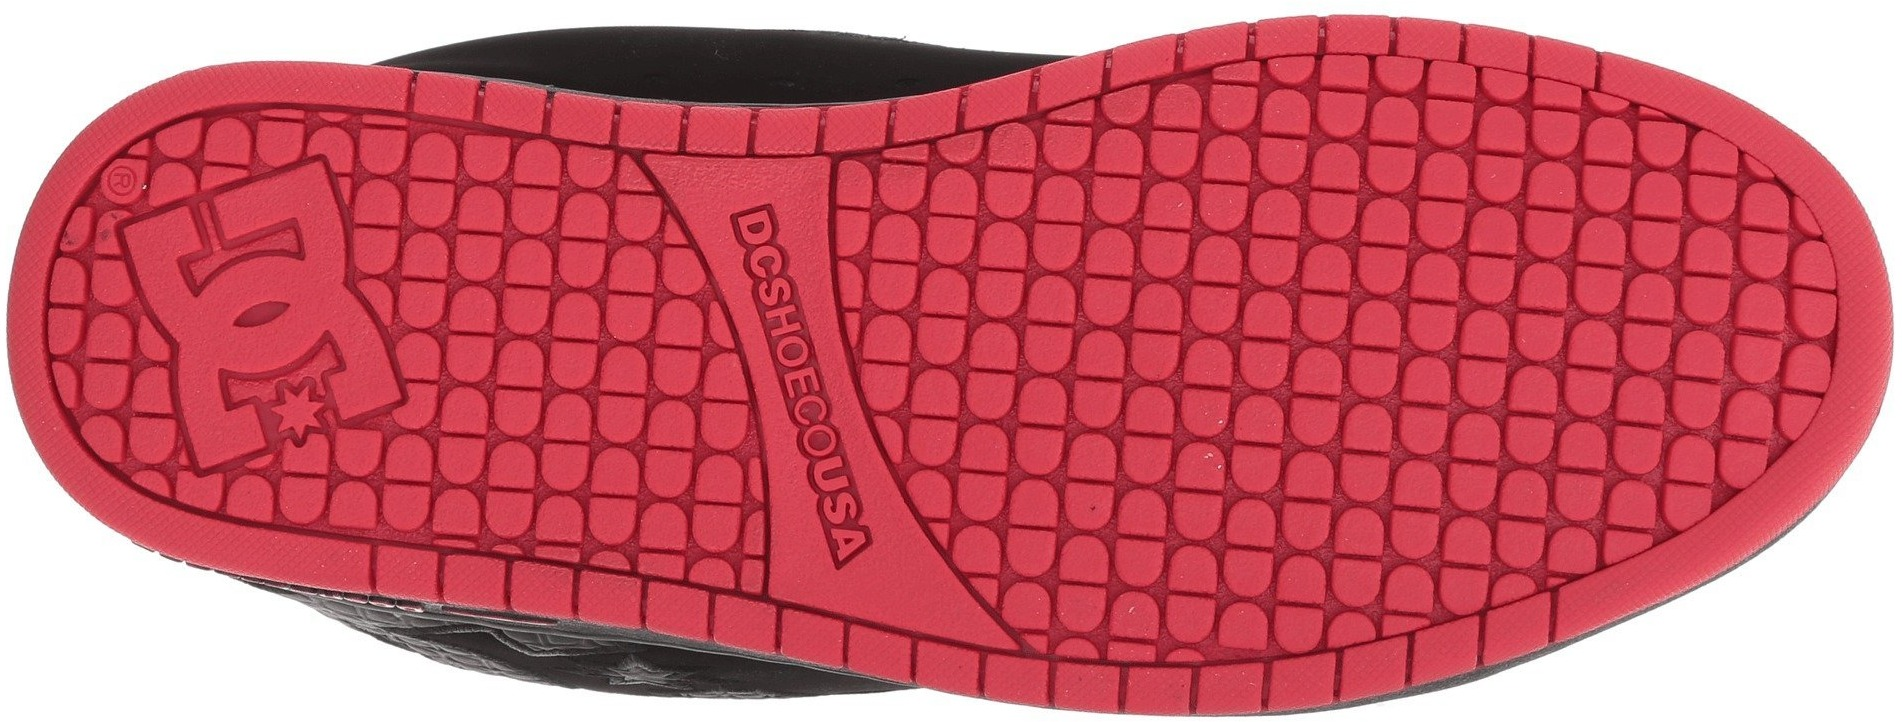circle: (1063, 261, 1386, 582), (1090, 1, 1323, 239), (1373, 5, 1604, 224), (697, 397, 888, 608), (1380, 542, 1576, 720), (717, 191, 872, 407), (1036, 610, 1197, 720), (93, 157, 163, 214)
line: (697, 397, 888, 608), (717, 191, 872, 407)
quad: (1063, 261, 1386, 582), (1090, 1, 1323, 239), (1373, 5, 1604, 224), (697, 397, 888, 608), (1380, 542, 1576, 720), (1036, 610, 1197, 720)
text: (697, 397, 888, 608), (717, 191, 872, 407), (93, 157, 163, 214)
triangle: (697, 397, 888, 608)
